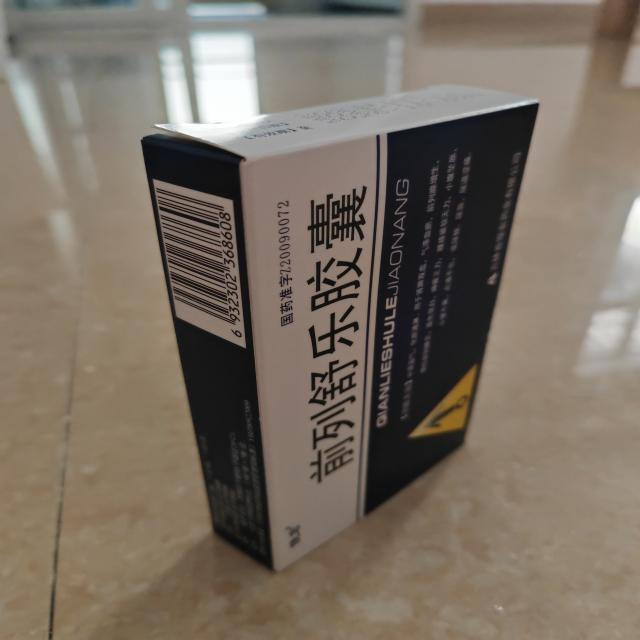box: (133, 76, 552, 581)
